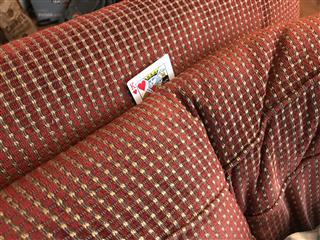KingOfHearts: (126, 53, 175, 103)
